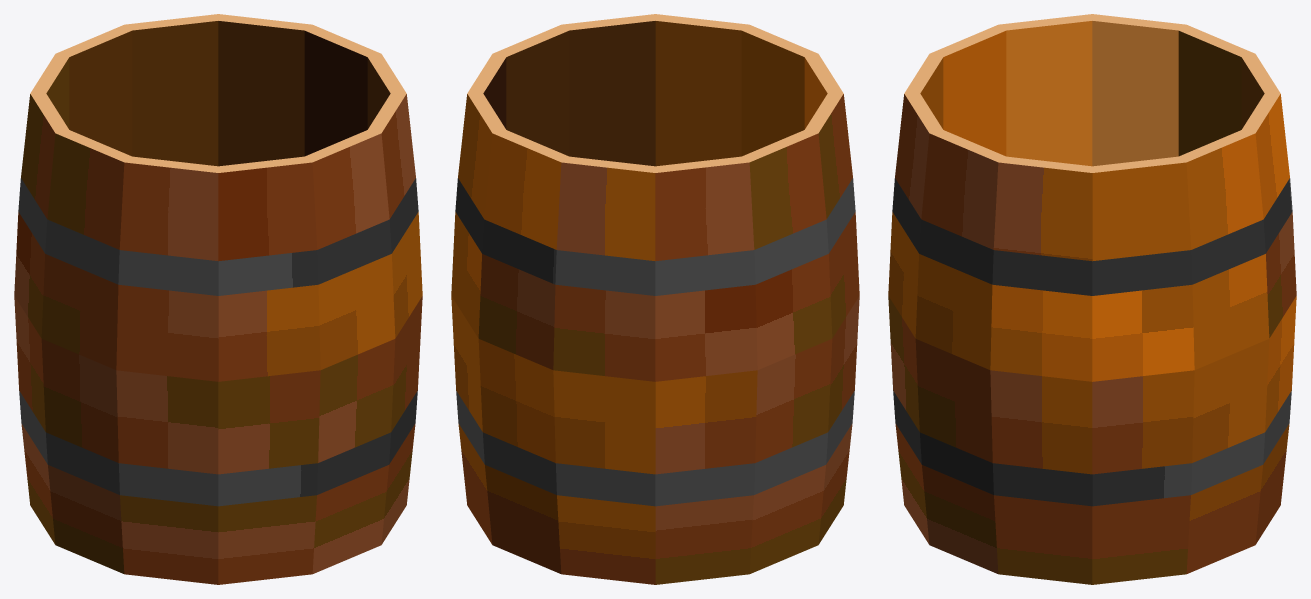
The model's file is barrel_819x01.gltf.
The picture shows the model from 3 angles, left to right: view 1: azimuth 30°, elevation 25°; view 2: azimuth 150°, elevation 25°; view 3: azimuth 270°, elevation 25°; orthographic projection.
Parts seen in each view (by area): view 1: barrel_819x01; view 2: barrel_819x01; view 3: barrel_819x01.
Boxes of the visible parts, x1,y1,x2,y2 form: barrel_819x01: [14, 14, 422, 584]; barrel_819x01: [451, 14, 859, 584]; barrel_819x01: [888, 14, 1296, 584].
Bounding box in the file's own units: 0.882 × 0.9814 × 0.882.
Materials: 1 (1 with a texture image).
